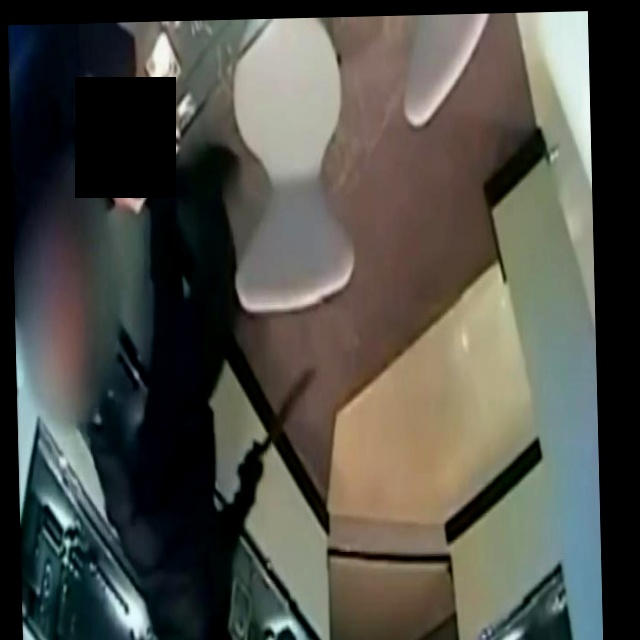gun: (236, 362, 326, 471)
